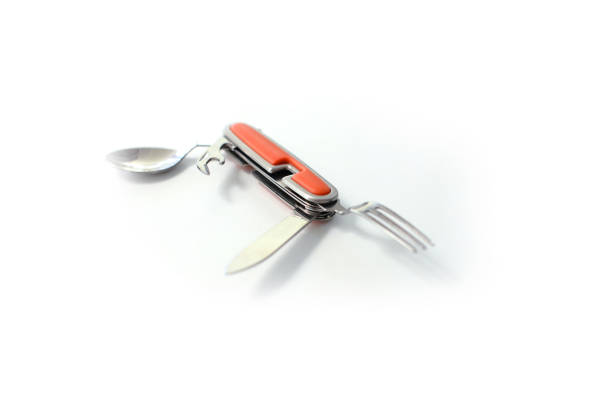knife: (220, 204, 315, 279)
